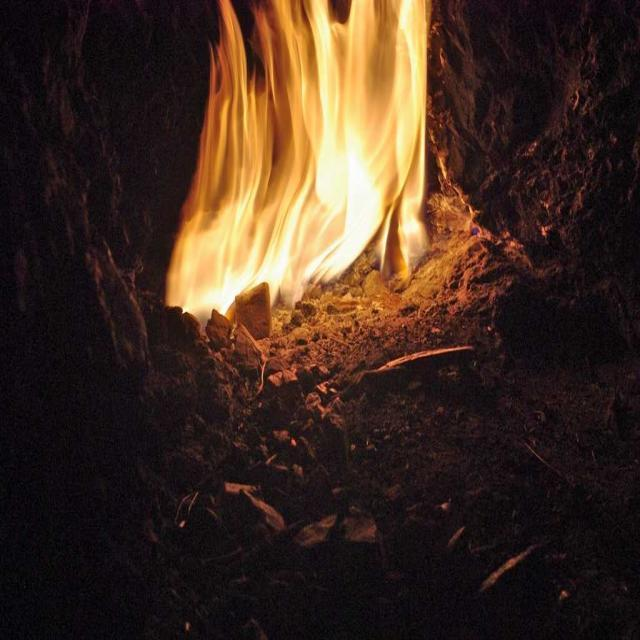Fire: (188, 3, 431, 302)
